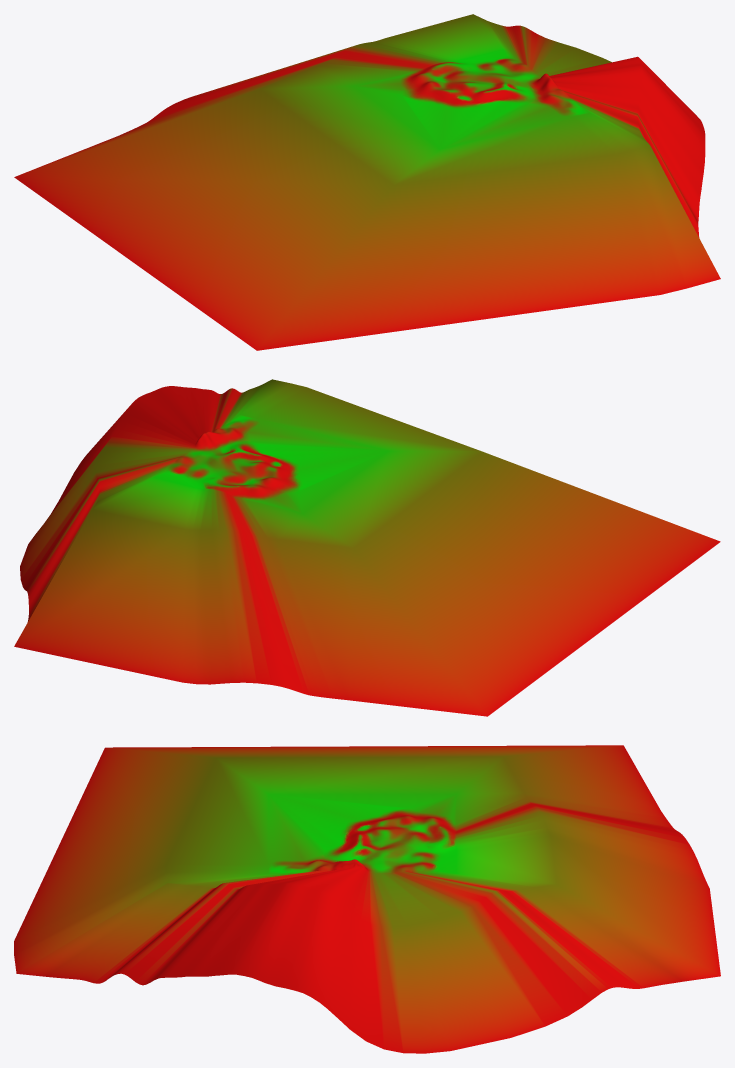
File: title terrain.fbx
3 renders of one model, top to bottom at view 1: azimuth 30°, elevation 25°; view 2: azimuth 150°, elevation 25°; view 3: azimuth 270°, elevation 25°, orthographic. The views are drawn at different scales.
Visible parts, largest first — view 1: title terrain; view 2: title terrain; view 3: title terrain.
Part boxes in pixels (bbox=[...]): title terrain: bbox=[14, 14, 720, 350]; title terrain: bbox=[14, 379, 720, 716]; title terrain: bbox=[14, 745, 720, 1053].
Size of the model in its own units: 184 by 38.76 by 188.
